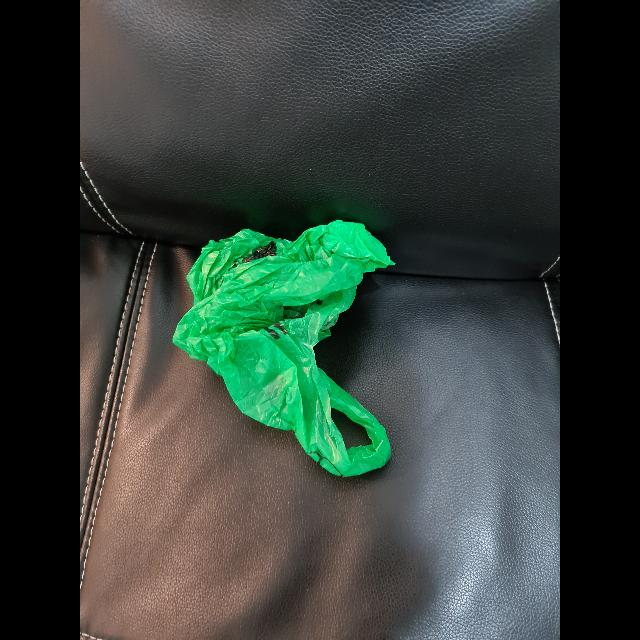plastic_bag: (176, 212, 396, 484)
